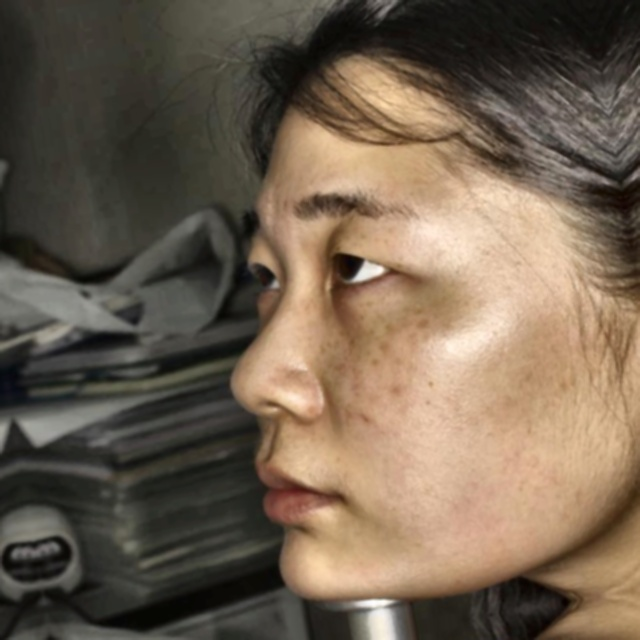comedone: (354, 403, 381, 430)
